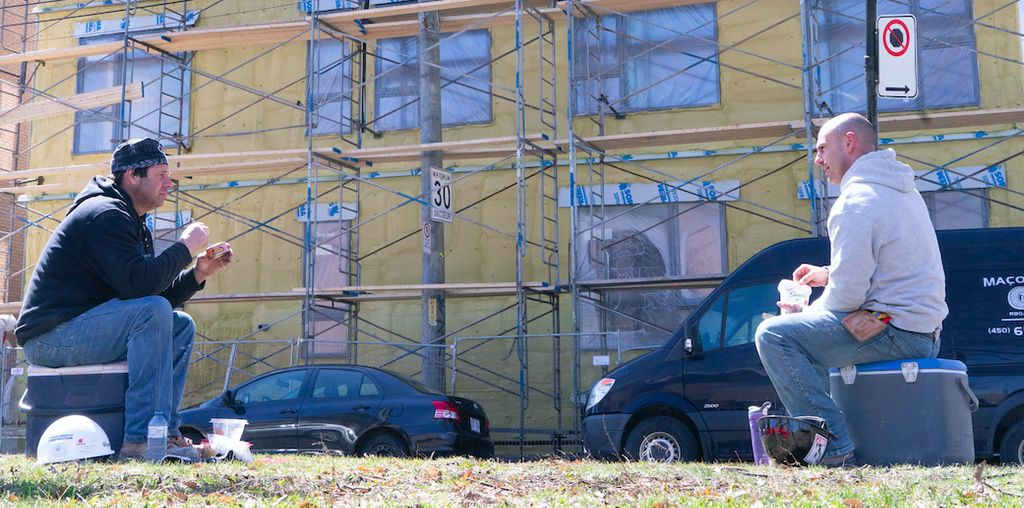Good: (15, 112, 962, 464)
